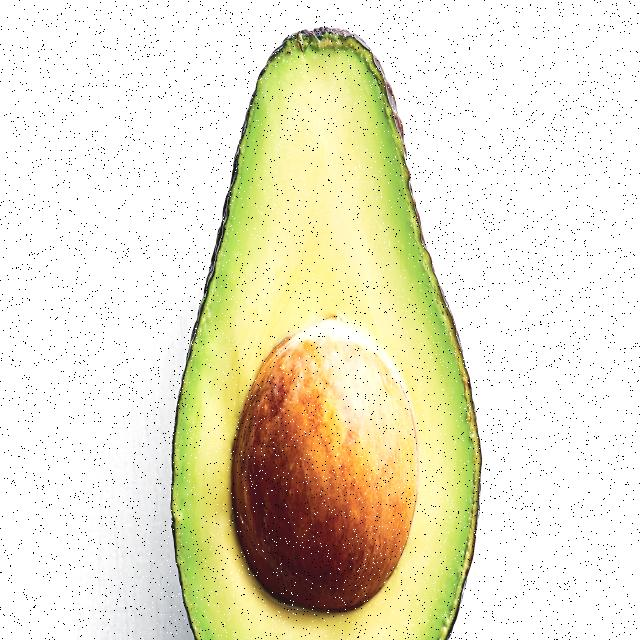Avocado: (182, 4, 502, 640)
